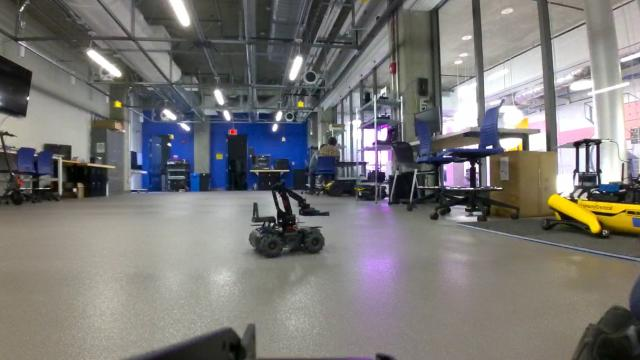robot: (244, 170, 332, 261)
